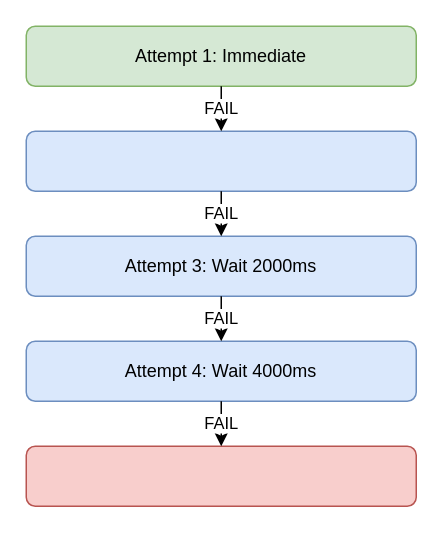
Image size: 443x533. Some labels were removed from this diagram. Each missing label, with the centre of its shape:
Attempt 2: Wait 1000ms: [220,160]
Final: Wait up to maxTimeout: [220,475]
